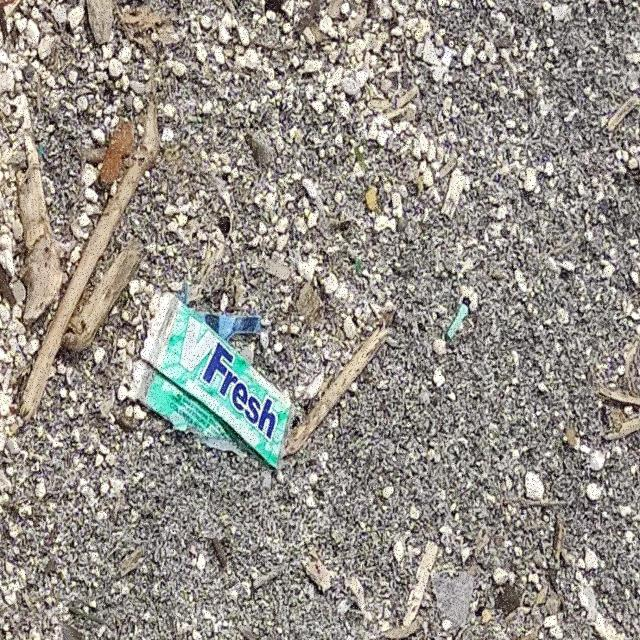plastic_waste: (132, 293, 294, 475)
